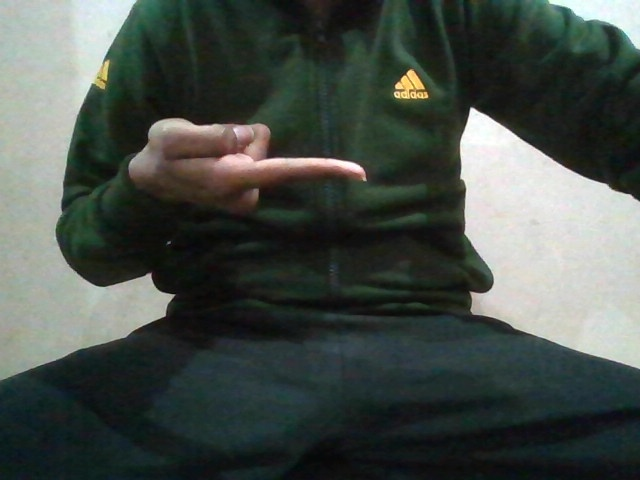X: (137, 113, 365, 221)
